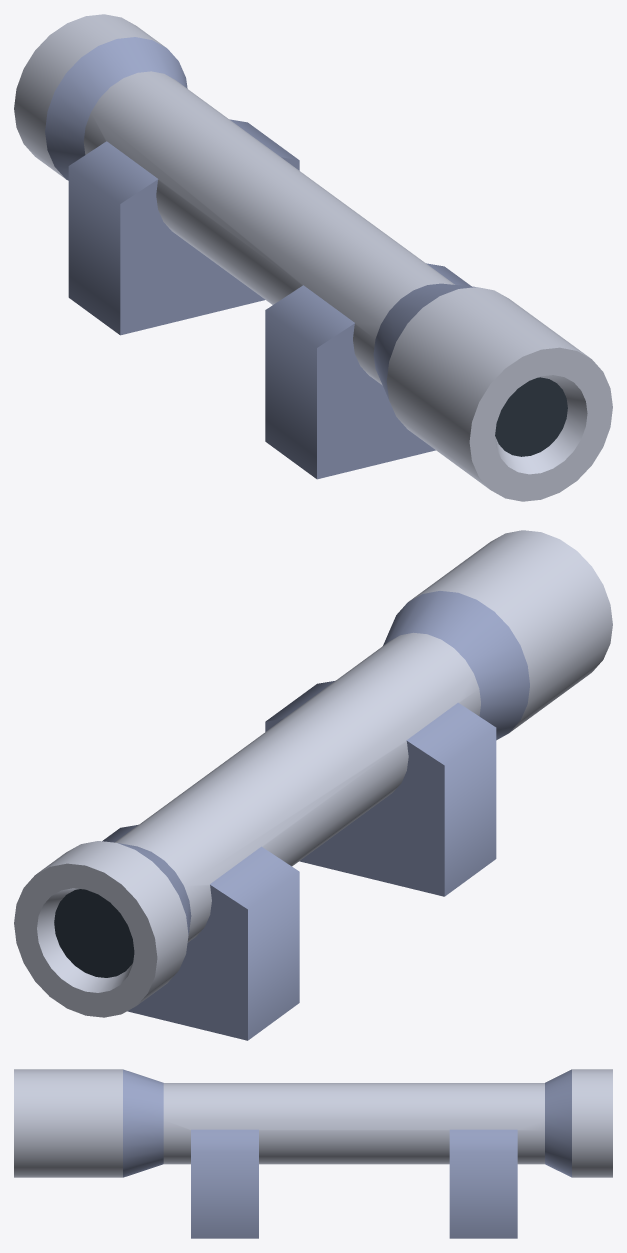
File: scopeB.glb
3 renders of one model, top to bottom at view 1: azimuth 30°, elevation 25°; view 2: azimuth 150°, elevation 25°; view 3: azimuth 270°, elevation 25°, orthographic. The views are drawn at different scales.
Visible parts, largest first — view 1: scopeB; view 2: scopeB; view 3: scopeB.
Boxes of the visible parts, box(x1,y1,x2,y2) form: scopeB: box(14, 14, 612, 501); scopeB: box(14, 530, 612, 1040); scopeB: box(14, 1069, 612, 1238).
Bounding box in the file's own units: 0.1 × 0.11 × 0.44.
